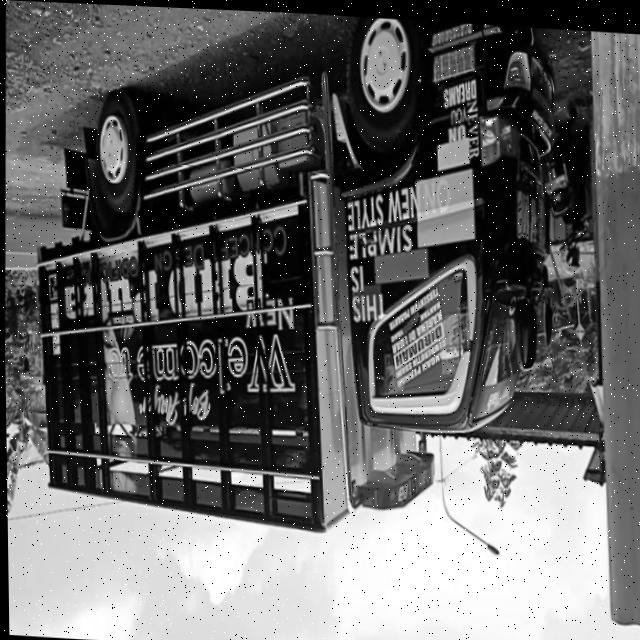truck: (290, 11, 587, 474)
